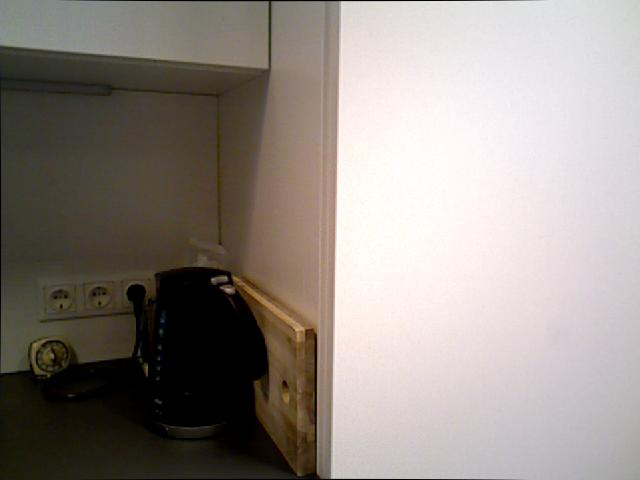giraffe: (27, 339, 77, 379)
hot dog: (323, 0, 640, 480)
